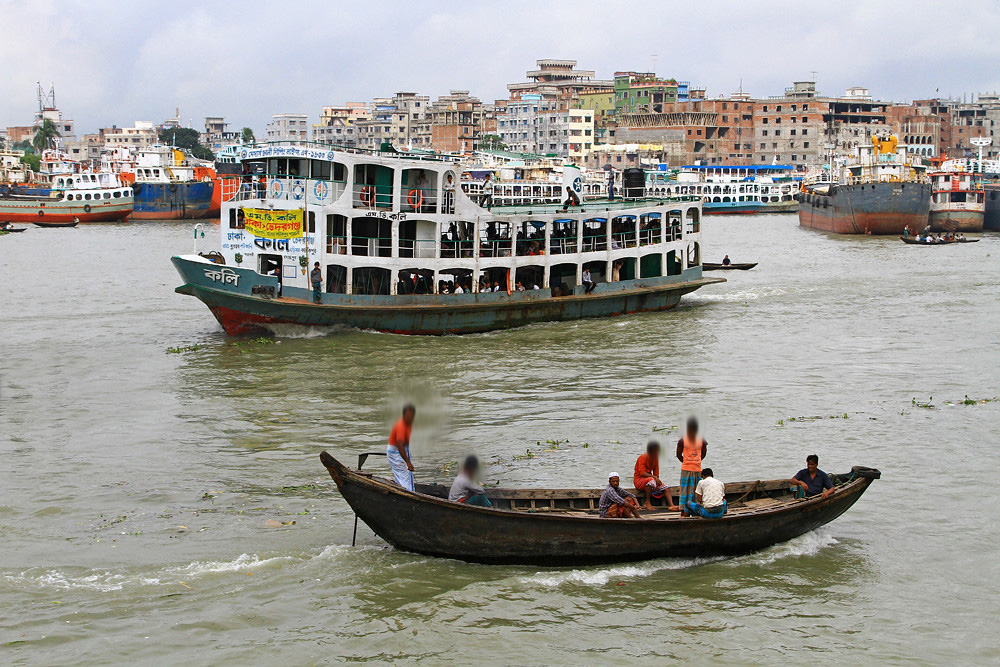boat: (318, 449, 882, 569), (903, 234, 980, 246), (701, 260, 758, 272), (30, 219, 83, 230)
launch: (167, 136, 730, 339), (794, 133, 927, 239), (1, 174, 137, 227), (649, 179, 804, 216), (126, 177, 215, 225), (929, 161, 984, 235), (119, 174, 192, 225), (639, 174, 722, 205), (697, 164, 806, 180)
